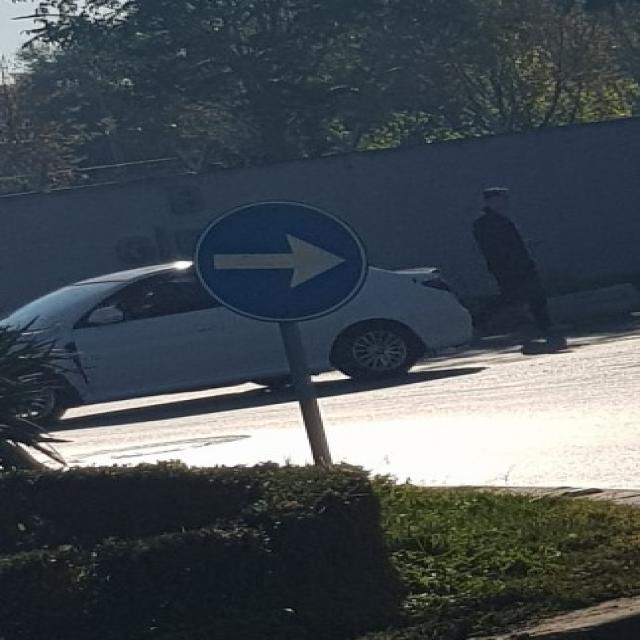Turn Right: (194, 209, 377, 319)
